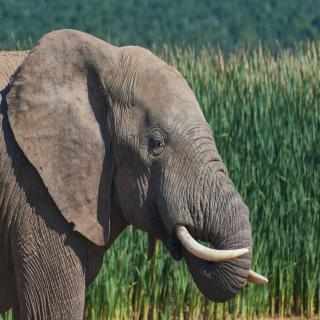Elephant: (0, 26, 269, 320)
